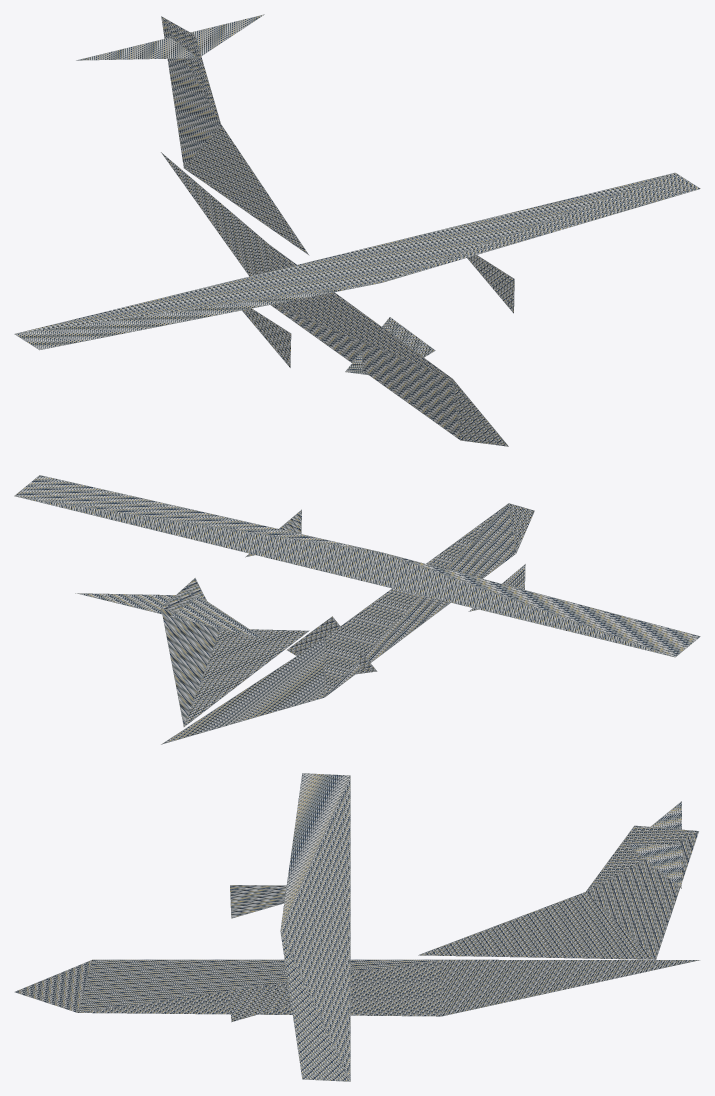
File: OSP_ATR_42-300_MSFS_LOD1.gltf
3 views of the same model, one above another, from view 1: azimuth 30°, elevation 25°; view 2: azimuth 150°, elevation 25°; view 3: azimuth 270°, elevation 25° (orthographic). The views are drawn at different scales.
Parts seen in each view (by area): view 1: node1; view 2: node1; view 3: node1.
Boxes of the visible parts, x1,y1,x2,y2 form: node1: (14, 14, 700, 446); node1: (14, 475, 700, 744); node1: (14, 773, 700, 1081).
Size of the model in its own units: 23.83 by 6.89 by 22.58.
